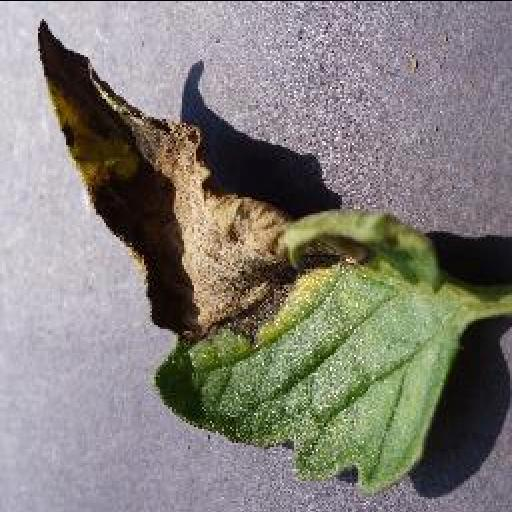disease_tomato: (34, 14, 464, 494)
